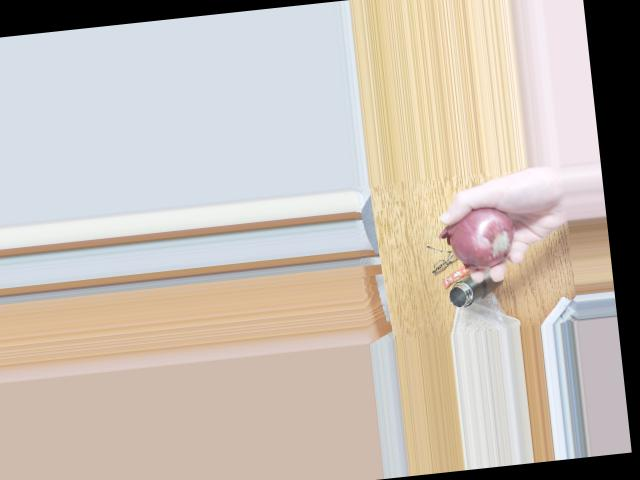onion: (449, 206, 514, 269)
